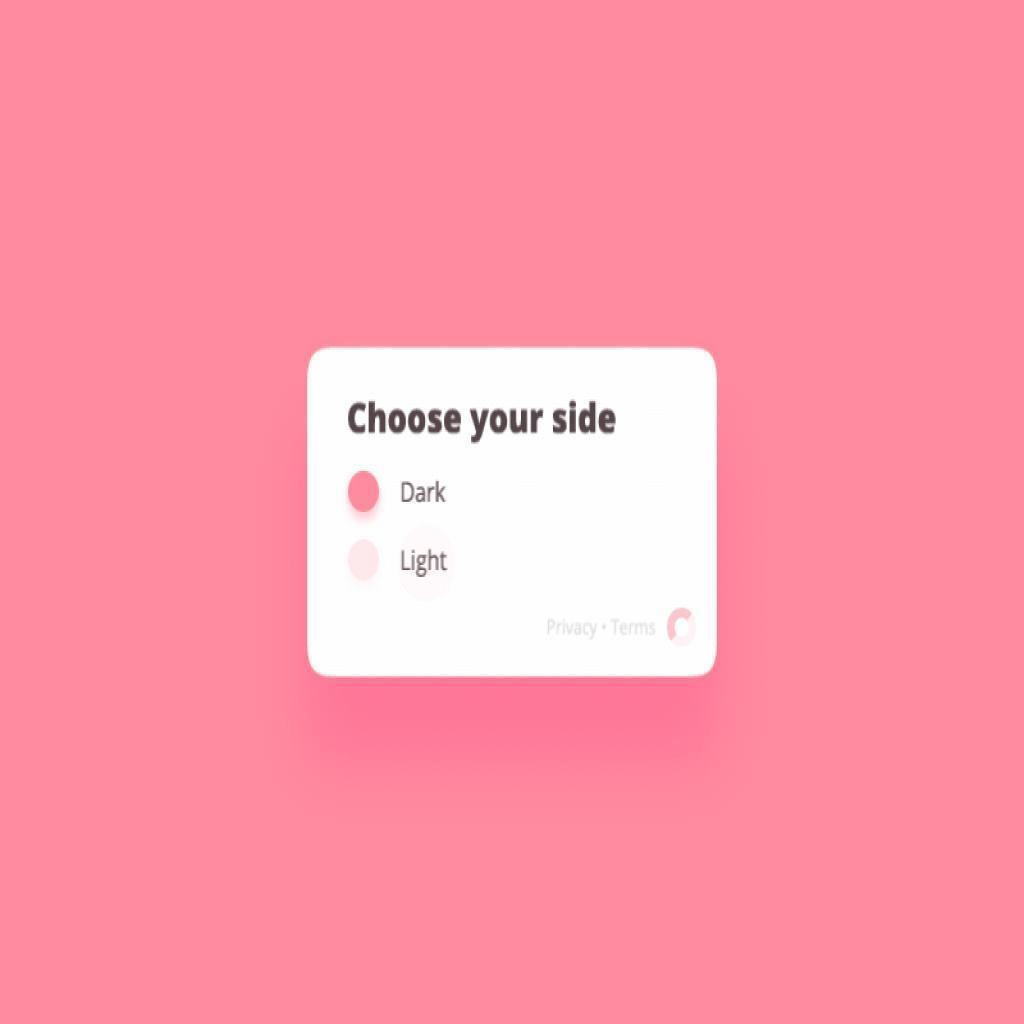radio: (340, 533, 389, 587), (338, 470, 386, 521)
